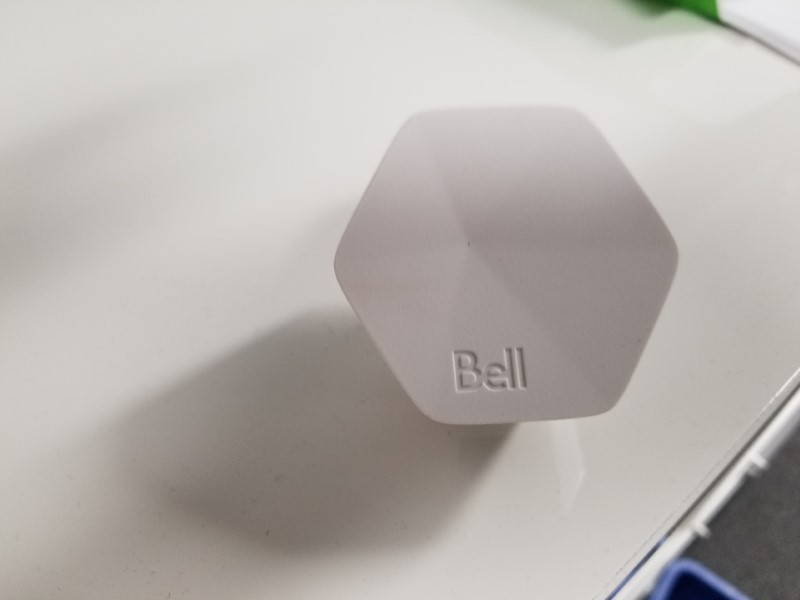pod: (331, 96, 686, 440)
